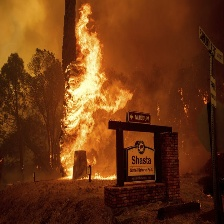fire: (61, 4, 128, 180)
smoke: (110, 2, 222, 117), (1, 1, 59, 60)
